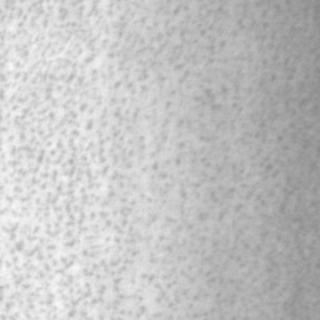pitted_surface: (0, 3, 310, 310)
